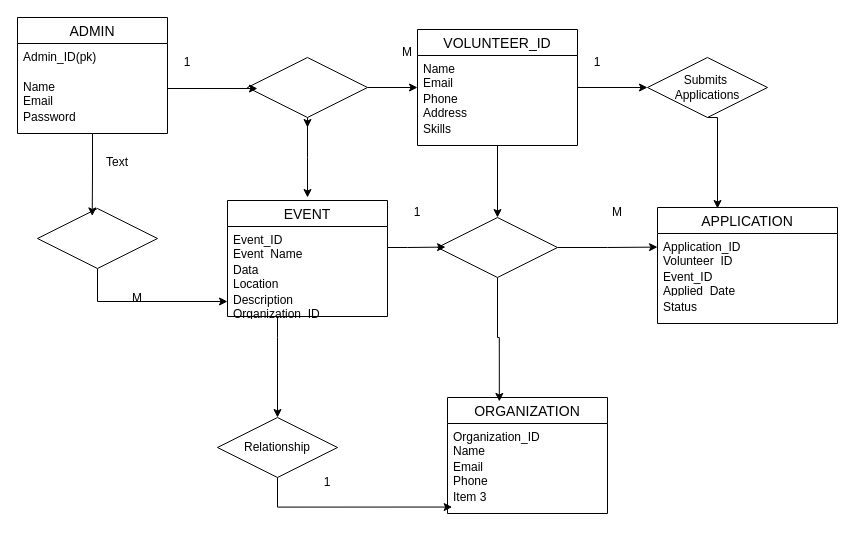
Image size: 855x534. Some labels were removed from this diagram. The shapes that lost their labels are listed below. From the top down, each one's centre as x and y in pixels, then its label:
At (x=307, y=87): "Manages Volunteers".
At (x=97, y=238): "Manages Events".
At (x=497, y=247): "Receives Applications".
